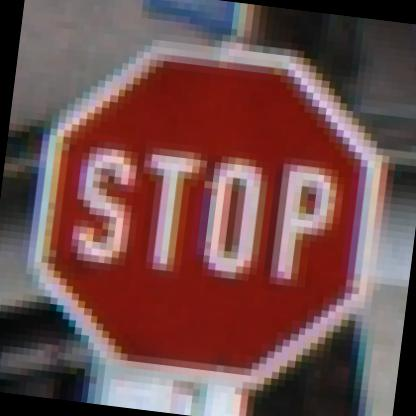stop: (8, 3, 401, 406)
